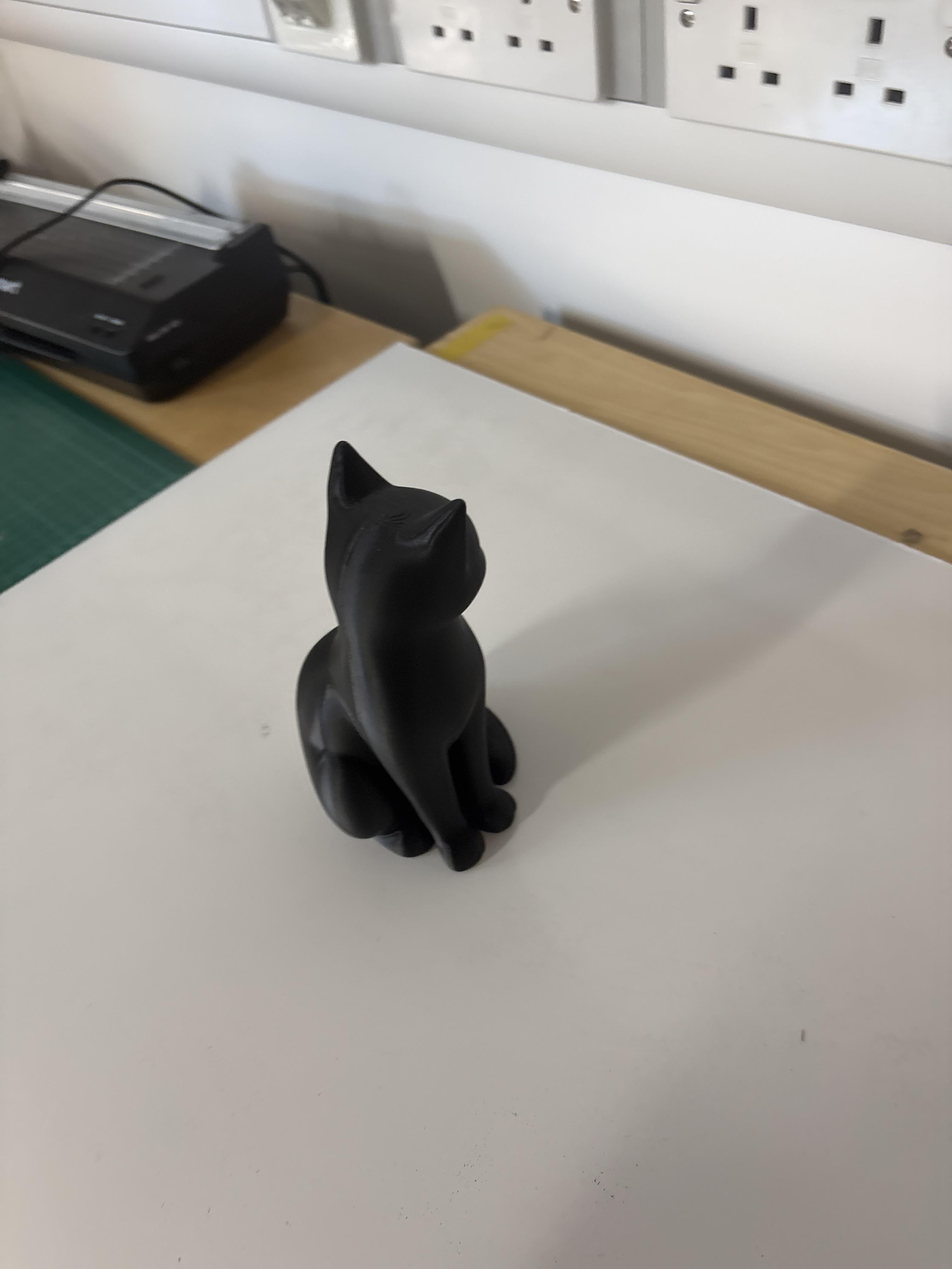cat: (298, 442, 516, 870)
